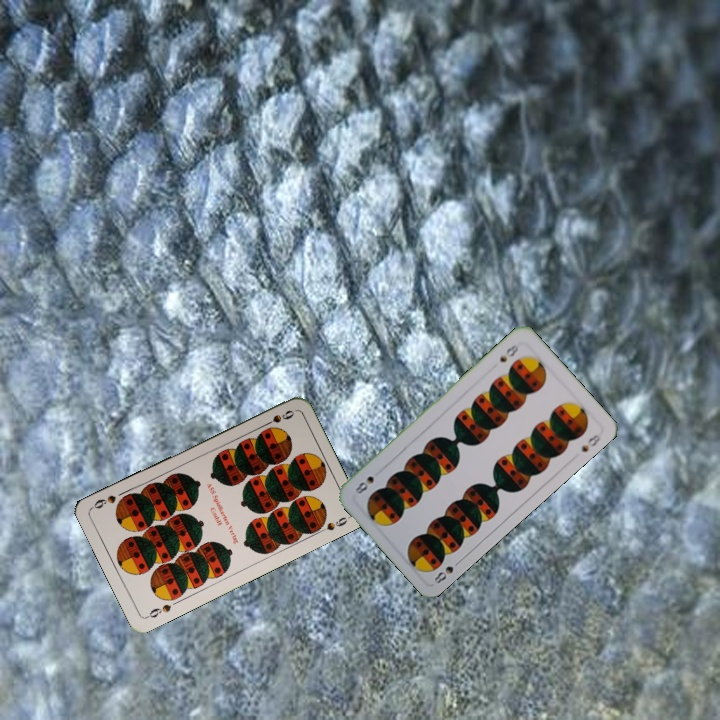S8: (430, 555, 464, 586), (496, 340, 521, 365)
S9: (258, 406, 297, 430), (142, 600, 174, 621)
